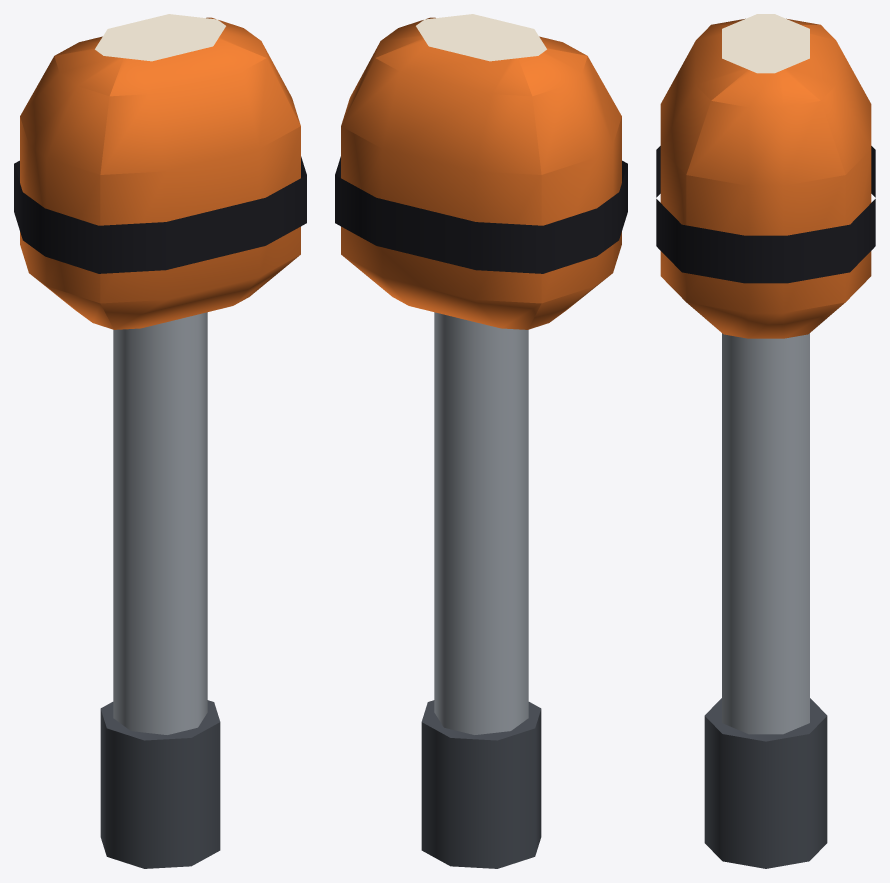
Rendered from CabinaPalanca.fbx.
3 renders of one model, left to right at view 1: azimuth 30°, elevation 25°; view 2: azimuth 150°, elevation 25°; view 3: azimuth 270°, elevation 25°, orthographic.
Visible parts, largest first — view 1: CabinaPalanca; view 2: CabinaPalanca; view 3: CabinaPalanca.
Boxes of the visible parts, x1=… form: CabinaPalanca: x1=14, y1=14, x2=306, y2=868; CabinaPalanca: x1=335, y1=14, x2=627, y2=868; CabinaPalanca: x1=656, y1=14, x2=875, y2=868.
Bounding box in the file's own units: 0.165 × 0.502 × 0.125.
Materials: 1 (1 with a texture image).
